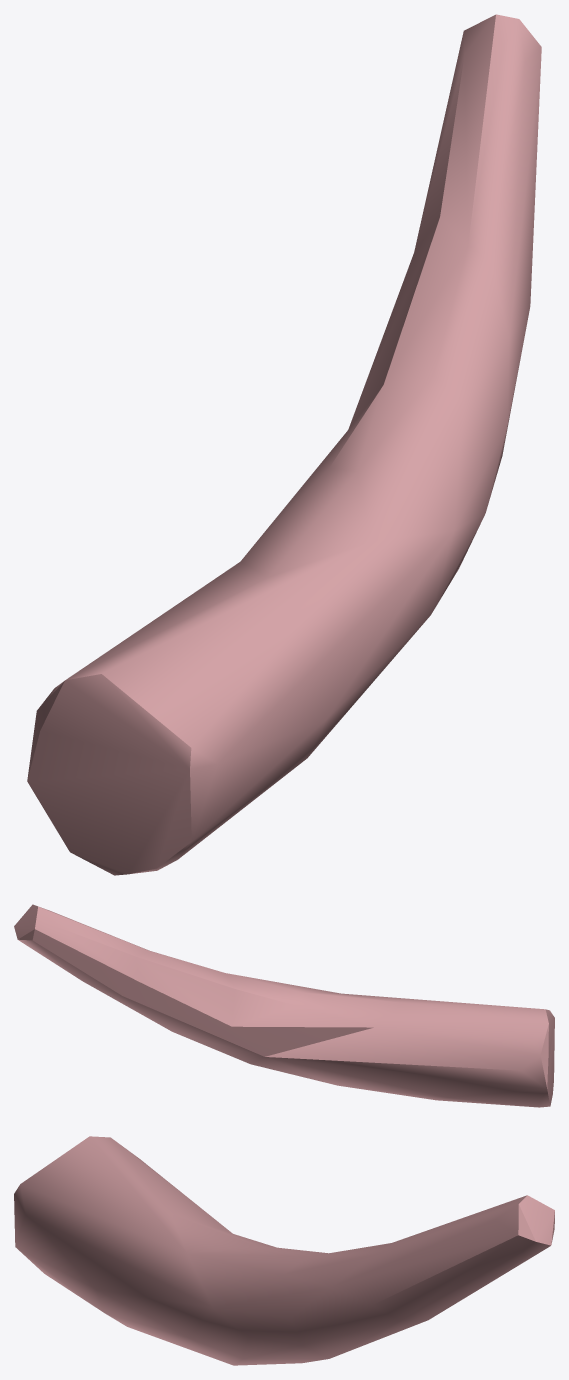
Rendered from fma68226_fj6585.glb.
3 renders of one model, top to bottom at view 1: azimuth 30°, elevation 25°; view 2: azimuth 150°, elevation 25°; view 3: azimuth 270°, elevation 25°, orthographic. The views are drawn at different scales.
Visible parts, largest first — view 1: FMA68226_FJ6585; view 2: FMA68226_FJ6585; view 3: FMA68226_FJ6585.
Part boxes in pixels (x1=…): FMA68226_FJ6585: x1=27, y1=14, x2=541, y2=875; FMA68226_FJ6585: x1=14, y1=904, x2=554, y2=1107; FMA68226_FJ6585: x1=14, y1=1136, x2=554, y2=1365.
Bounding box in the file's own units: 0.023 × 0.0127 × 0.0194.
